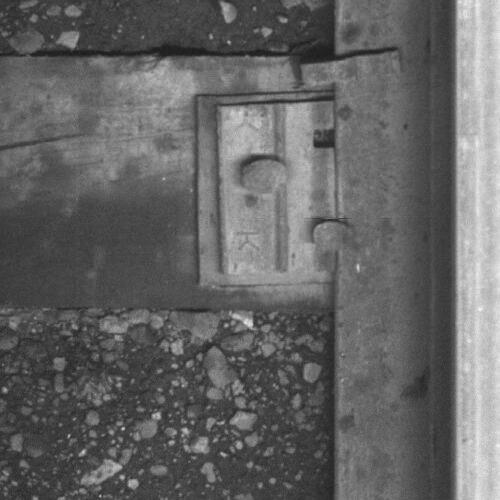crutch: (301, 48, 404, 87)
do: (216, 99, 355, 275)
hole_do: (304, 118, 347, 156)
rail: (455, 1, 500, 500)
tie_wood: (1, 54, 336, 310)
wood_crack: (1, 129, 88, 158)
